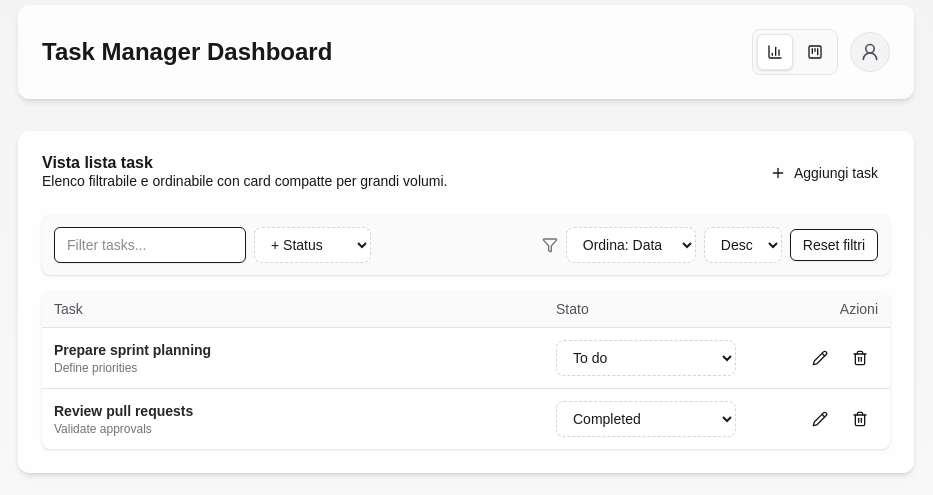
Test case: Home integration › filters tasks by query
expect the button "Prepare sprint planning" is shown: met, box x1=54 y1=340 x2=544 y2=360
Type "sprint" into the field with placeholder "Filter tasks...".
click(150, 245); type("sprint")  # box x1=54 y1=227 x2=246 y2=263
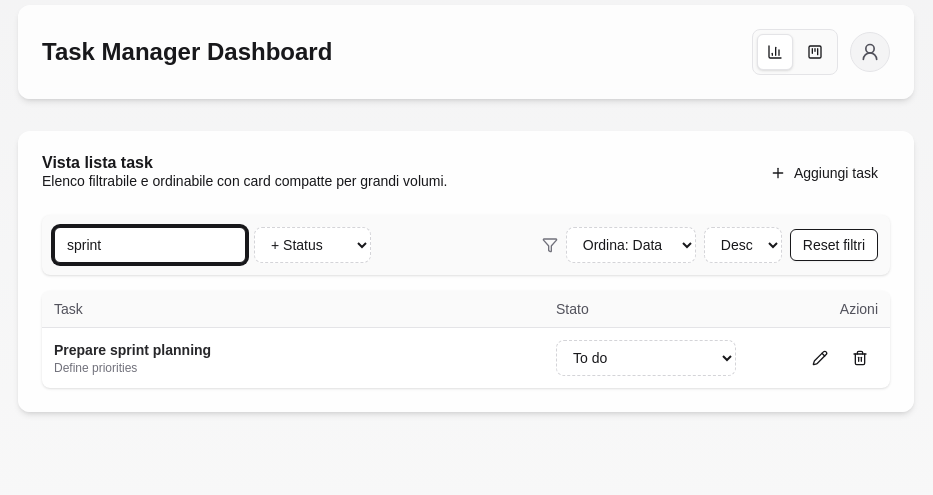
expect the button "Prepare sprint planning" is shown: met, box x1=54 y1=340 x2=544 y2=360
expect the button "Review pull requests" is gone: met
